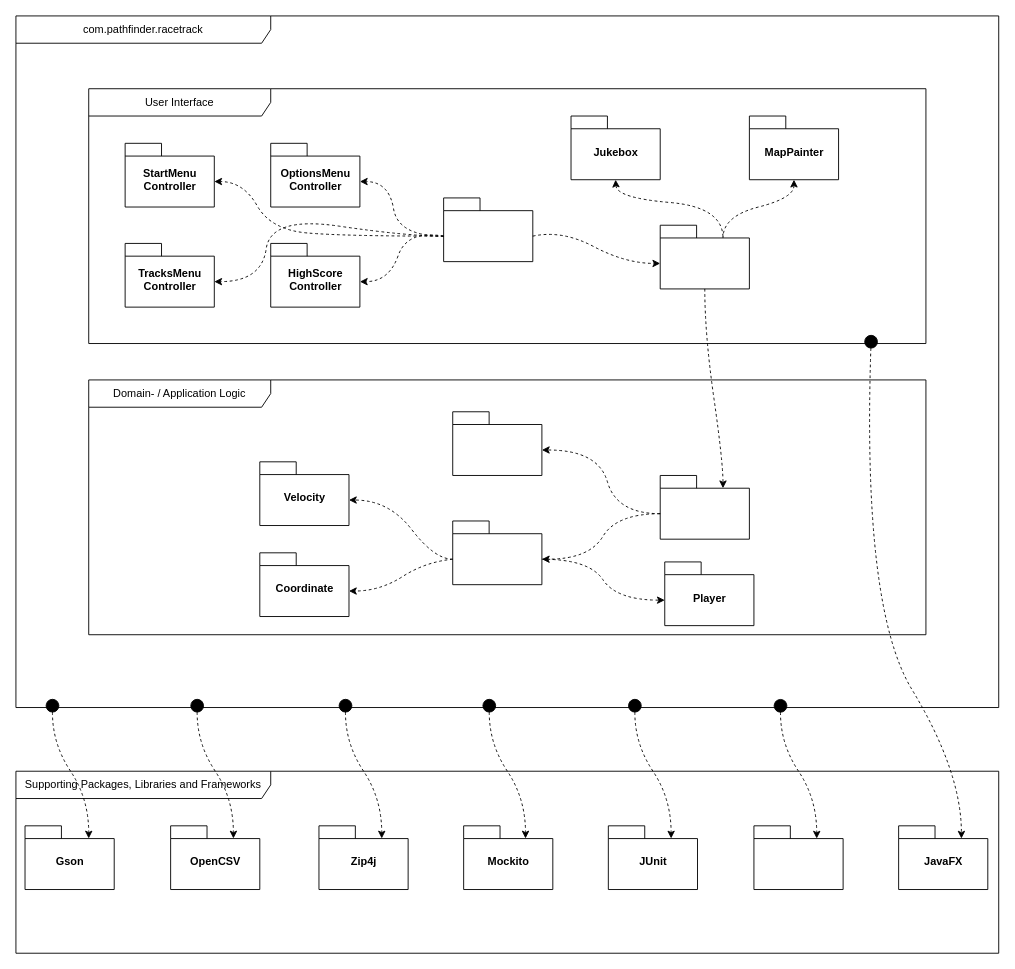
Image size: 1015x969. Some labels were removed from this diagram. The shapes that lost their labels are listed below. From the top down, each one's centre as x and y in pixels, then its label:
At (x=488, y=229): "SceneController".
At (x=704, y=256): "PlayingField Controller".
At (x=497, y=443): "Track".
At (x=704, y=507): "GameEngine".
At (x=497, y=552): "Car".
At (x=798, y=857): "SLF4J".
